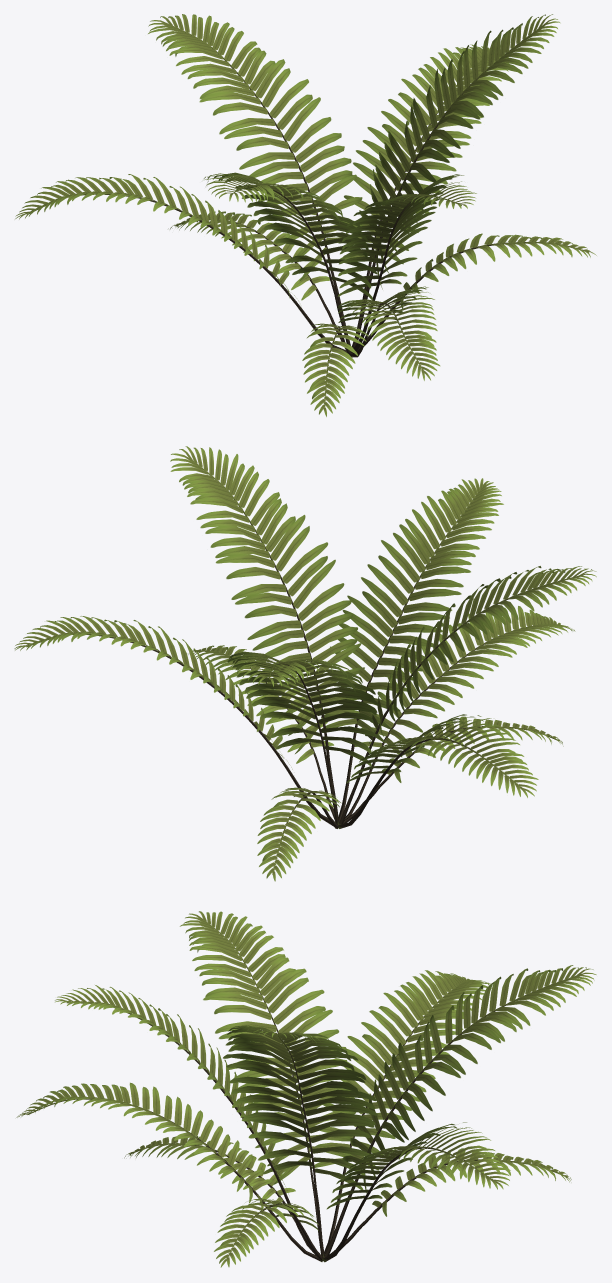
The picture shows the model from 3 angles, top to bottom: view 1: azimuth 30°, elevation 25°; view 2: azimuth 150°, elevation 25°; view 3: azimuth 270°, elevation 25°; orthographic projection.
Parts seen in each view (by area): view 1: MH_Fern01_01.Shape; view 2: MH_Fern01_01.Shape; view 3: MH_Fern01_01.Shape.
Boxes of the visible parts, x1=… form: MH_Fern01_01.Shape: x1=15, y1=14, x2=596, y2=416; MH_Fern01_01.Shape: x1=14, y1=446, x2=596, y2=881; MH_Fern01_01.Shape: x1=16, y1=911, x2=596, y2=1267.
Size of the model in its own units: 0.6901 by 0.4124 by 0.6873.
2 materials, 2 textured.
